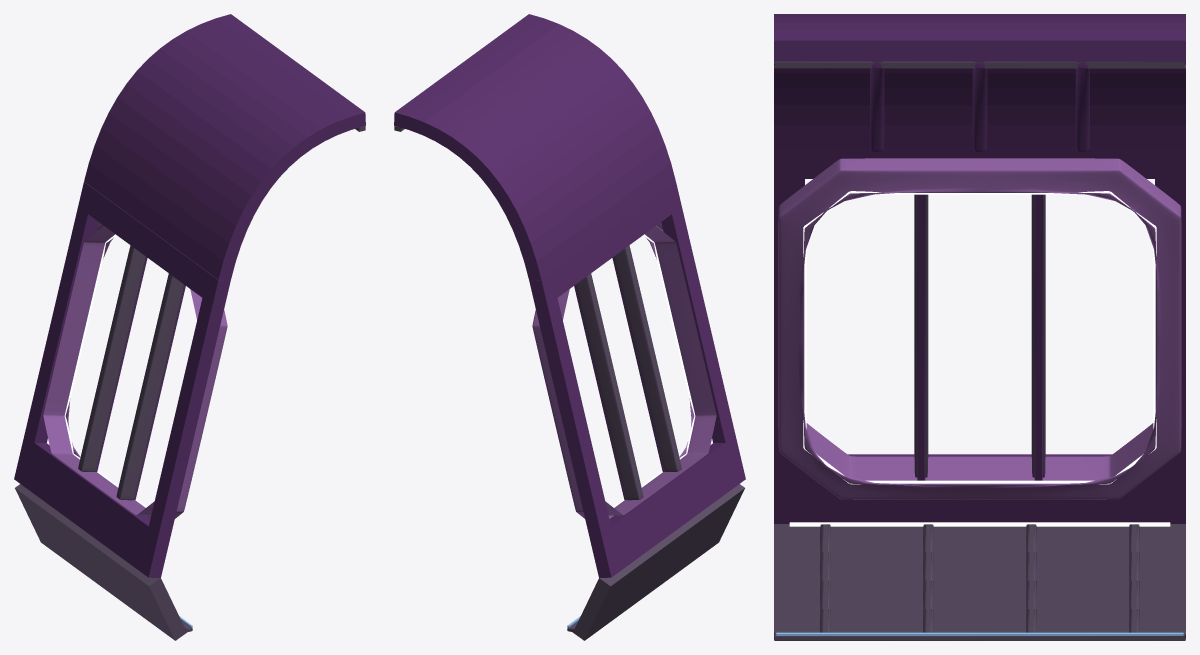
Rendered from SM_SB_Kit_KeelShell_WallBayWindow.fbx.
3 views of the same model, side by side, from view 1: azimuth 30°, elevation 25°; view 2: azimuth 150°, elevation 25°; view 3: azimuth 270°, elevation 25° (orthographic). The views are drawn at different scales.
Parts seen in each view (by area): view 1: SM_SB_Kit_KeelShell_WallBayWindow; view 2: SM_SB_Kit_KeelShell_WallBayWindow; view 3: SM_SB_Kit_KeelShell_WallBayWindow.
Part boxes in pixels (bbox=[...]): SM_SB_Kit_KeelShell_WallBayWindow: bbox=[14, 14, 365, 640]; SM_SB_Kit_KeelShell_WallBayWindow: bbox=[394, 14, 745, 640]; SM_SB_Kit_KeelShell_WallBayWindow: bbox=[774, 14, 1185, 640].
Bounding box in the file's own units: 373 × 400 × 791.
